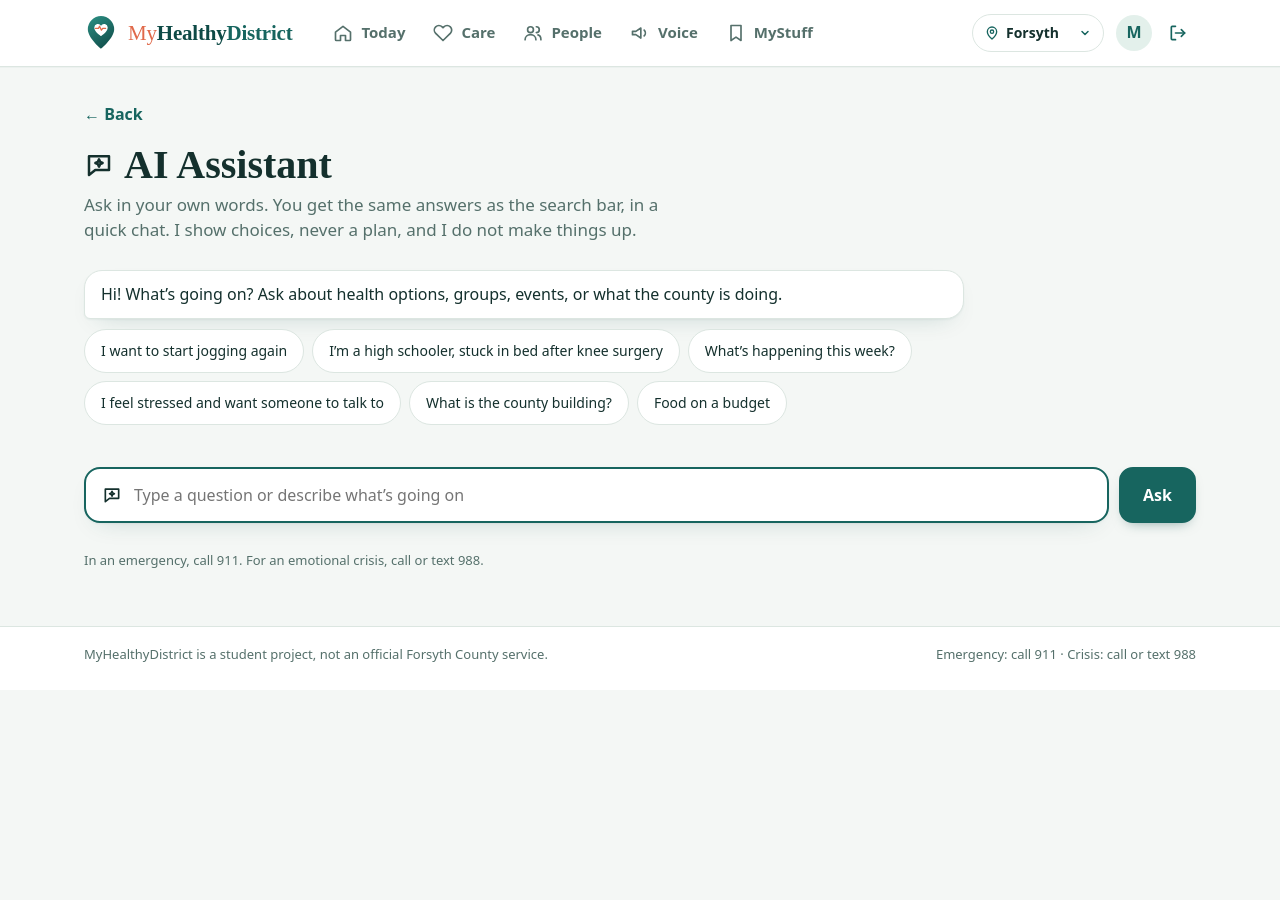
Scenario: AI Assistant answers › suggests groups without adding events that do not match, and every group has the same icon
This screenshot has width=1280, height=900.
Step 1. Type "find runners to join" into the field named "Ask the AI Assistant" → (616, 496), box [132,474,1099,518]
Then press Enter
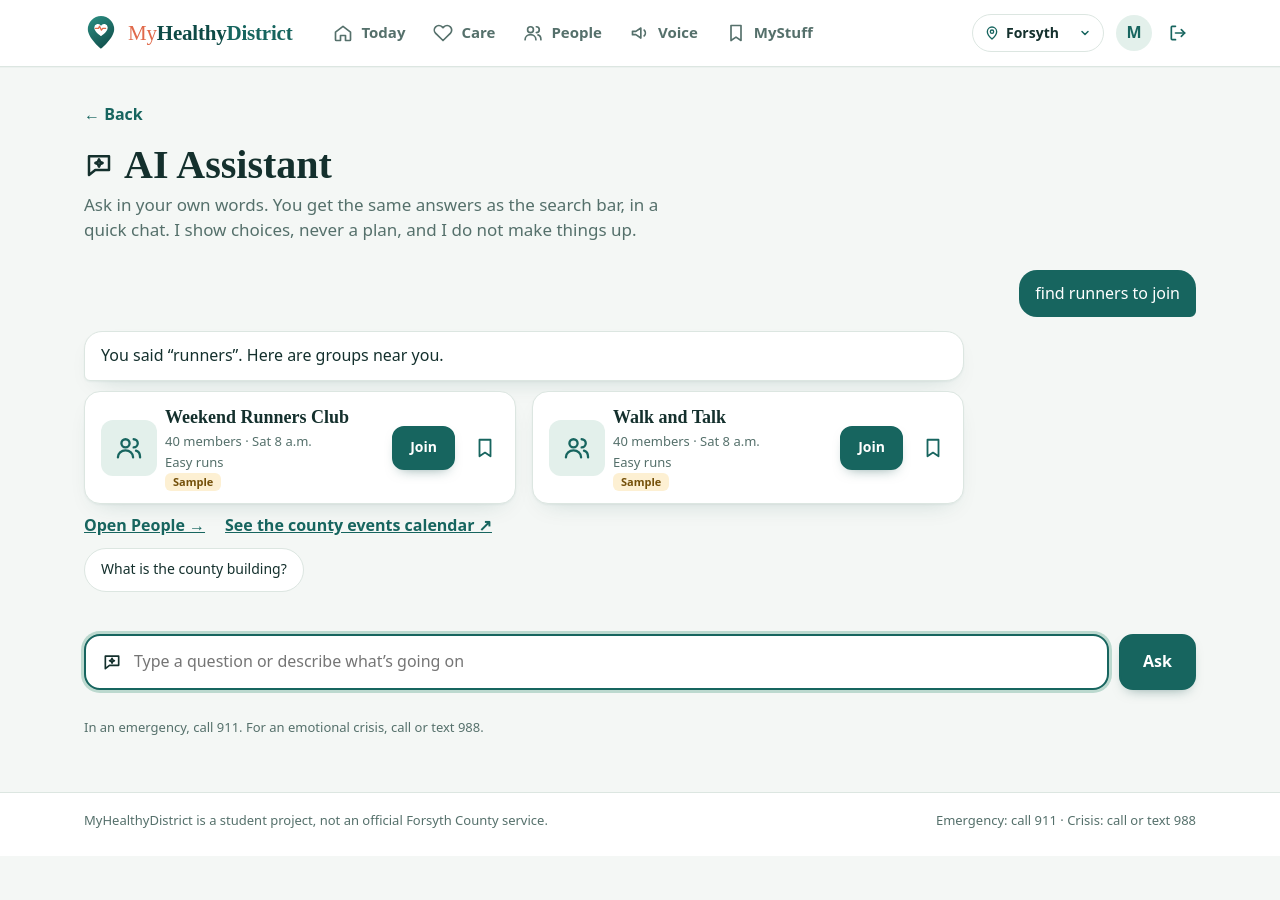
Result: the number of elements with test id "group-card" is 2 at [84,391,516,504]; [532,391,964,504]
Result: the text "You said “runners”. Here are groups near you." is shown at [84,332,964,381]
